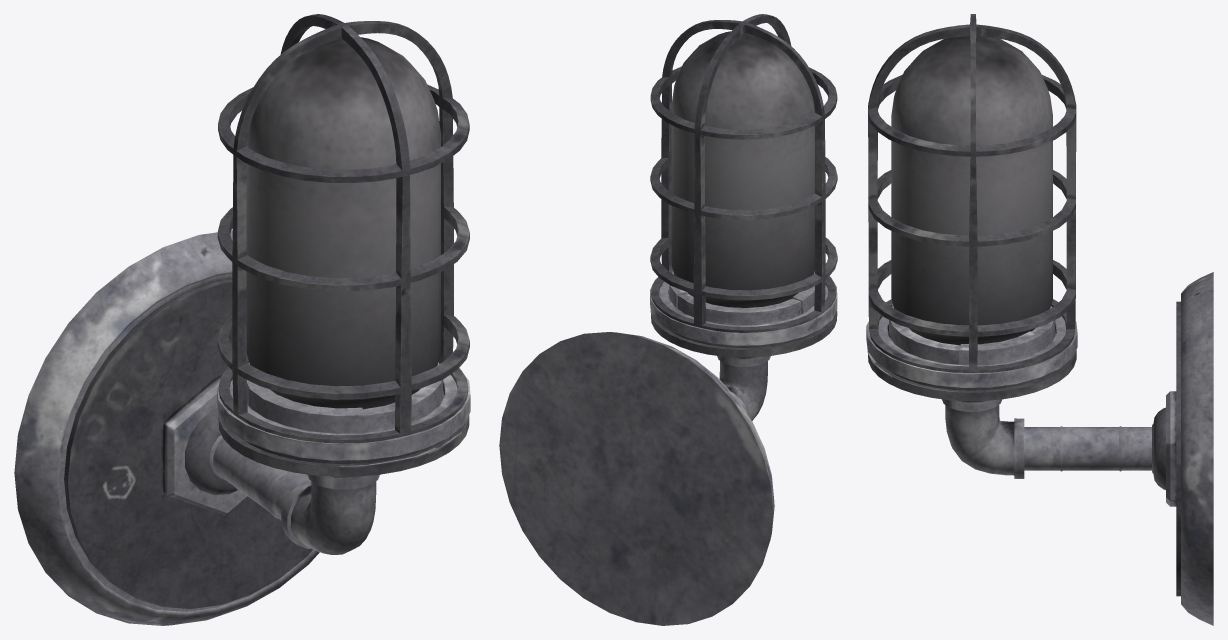
File: industrial_caged_sconce.gltf
3 views of the same model, side by side, from view 1: azimuth 30°, elevation 25°; view 2: azimuth 150°, elevation 25°; view 3: azimuth 270°, elevation 25° (orthographic). The views are drawn at different scales.
Visible parts, largest first — view 1: industrial_caged_sconce_a; view 2: industrial_caged_sconce_a; view 3: industrial_caged_sconce_a.
Boxes of the visible parts, x1,y1,x2,y2 form: industrial_caged_sconce_a: (14, 14, 470, 625); industrial_caged_sconce_a: (499, 14, 837, 625); industrial_caged_sconce_a: (866, 14, 1213, 625).
Bounding box in the file's own units: 0.2102 × 0.3819 × 0.2059.
1 material, 1 textured.
